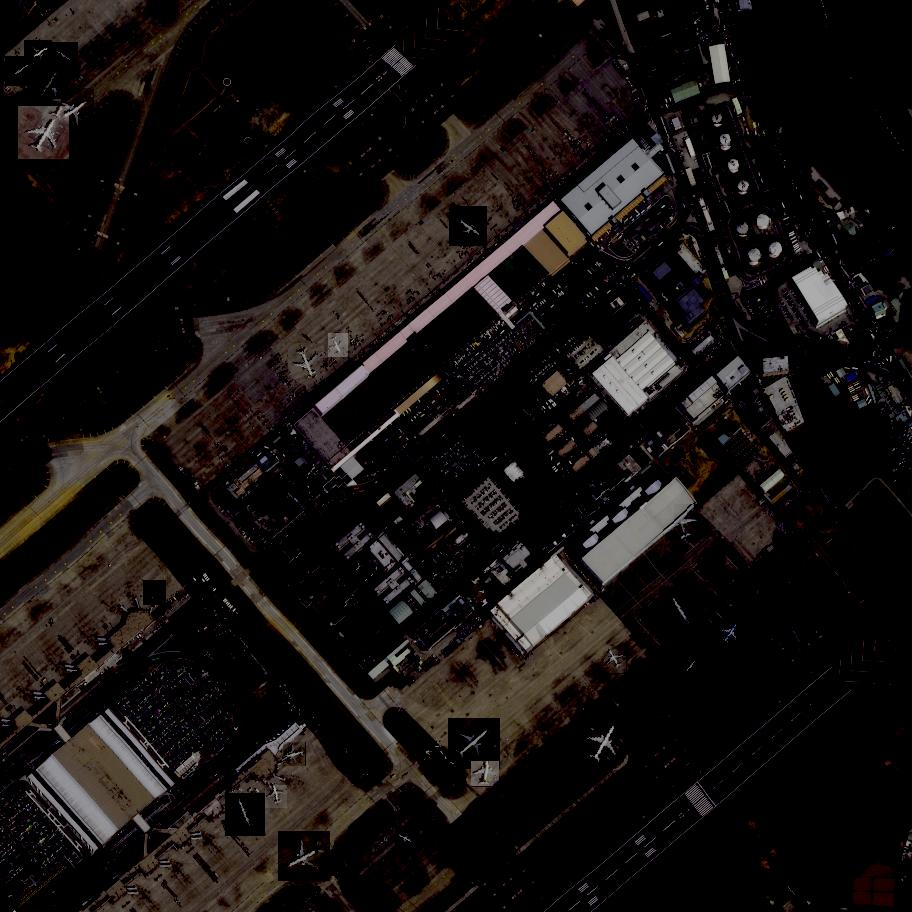large-vehicle: (356, 565, 362, 571), (789, 178, 795, 183), (432, 574, 437, 579), (399, 429, 404, 434), (753, 122, 757, 128), (441, 751, 445, 756), (450, 761, 455, 765), (882, 343, 886, 348), (580, 381, 584, 386), (471, 597, 475, 601), (867, 261, 871, 265), (883, 359, 887, 363), (734, 76, 738, 80), (435, 391, 440, 394), (874, 351, 877, 356), (455, 768, 460, 771), (793, 184, 796, 188), (872, 335, 875, 339), (743, 93, 746, 97), (732, 78, 735, 82), (434, 746, 439, 748), (890, 356, 892, 361), (889, 348, 891, 353), (893, 228, 896, 231), (153, 659, 157, 661), (744, 84, 746, 88), (479, 589, 482, 591), (427, 752, 430, 754), (445, 756, 447, 759), (756, 130, 758, 133), (737, 77, 739, 80), (734, 79, 735, 83), (729, 4, 730, 8), (744, 106, 745, 109), (763, 131, 764, 134), (235, 731, 235, 732), (236, 707, 236, 712)
plane: (15, 106, 71, 160), (577, 716, 631, 771), (448, 717, 502, 771), (279, 830, 331, 881), (656, 587, 705, 635), (51, 89, 97, 136), (27, 63, 71, 109), (225, 793, 266, 836), (449, 207, 489, 247), (288, 344, 327, 385), (672, 504, 702, 544), (715, 618, 746, 649), (5, 57, 36, 87), (24, 41, 53, 70), (50, 43, 80, 70), (394, 827, 423, 854), (783, 619, 809, 649), (678, 655, 705, 682), (602, 648, 628, 675), (471, 762, 499, 786), (282, 742, 306, 767), (143, 581, 166, 606), (265, 785, 288, 809), (328, 333, 349, 357)
storage-tank: (736, 219, 752, 235), (748, 248, 763, 263), (769, 241, 783, 255), (737, 179, 751, 192), (712, 111, 725, 124), (728, 158, 741, 170), (757, 213, 769, 226), (721, 134, 733, 146)
